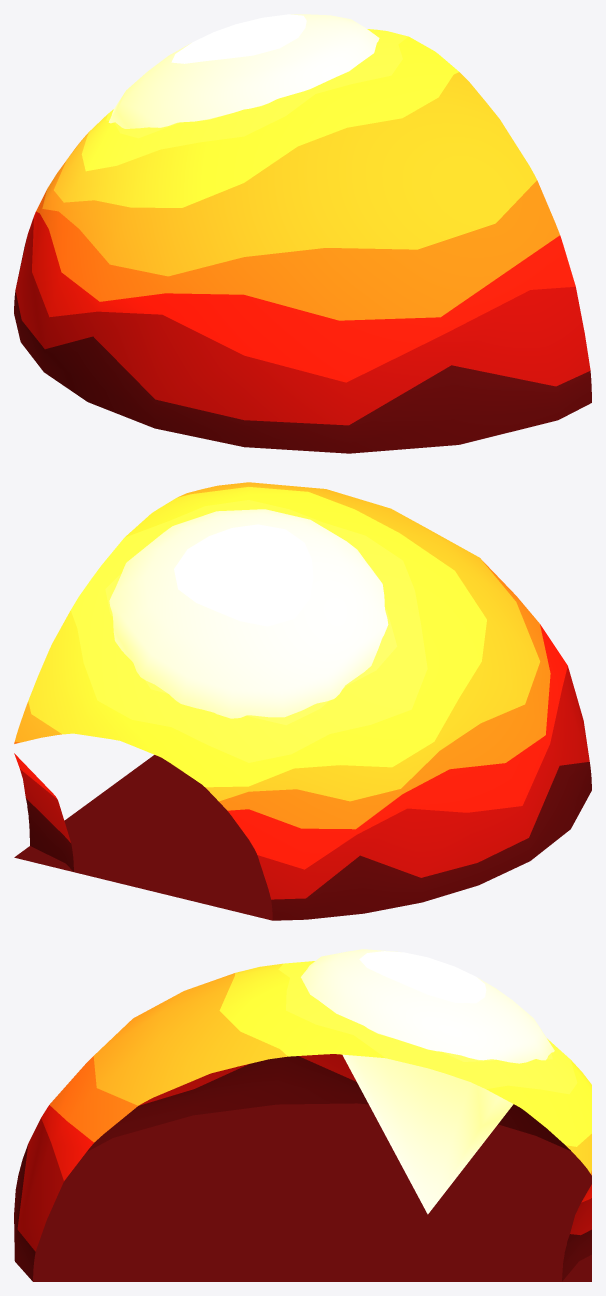
The model's file is shot_charge_b222.glb.
3 renders of one model, top to bottom at view 1: azimuth 30°, elevation 25°; view 2: azimuth 150°, elevation 25°; view 3: azimuth 270°, elevation 25°, orthographic. The views are drawn at different scales.
Parts seen in each view (by area): view 1: charge_twin1_b_fire_shot_charge_b222, charge_twin1_b_core_shot_charge_b222; view 2: charge_twin1_b_fire_shot_charge_b222, charge_twin1_b_core_shot_charge_b222, charge_twin1_a_fire_shot_charge_b222; view 3: charge_twin1_b_fire_shot_charge_b222, charge_twin1_b_core_shot_charge_b222, charge_twin1_a_fire_shot_charge_b222.
Boxes of the visible parts, box(x1,y1,x2,y2) form: charge_twin1_b_fire_shot_charge_b222: box(14, 29, 591, 453); charge_twin1_b_core_shot_charge_b222: box(108, 14, 379, 128); charge_twin1_b_fire_shot_charge_b222: box(14, 482, 591, 920); charge_twin1_b_core_shot_charge_b222: box(109, 509, 388, 718); charge_twin1_a_fire_shot_charge_b222: box(14, 753, 73, 871); charge_twin1_b_fire_shot_charge_b222: box(14, 961, 591, 1281); charge_twin1_b_core_shot_charge_b222: box(301, 949, 554, 1214); charge_twin1_a_fire_shot_charge_b222: box(562, 1184, 591, 1281).
Bounding box in the file's own units: 7.97 × 5.37 × 10.92.
